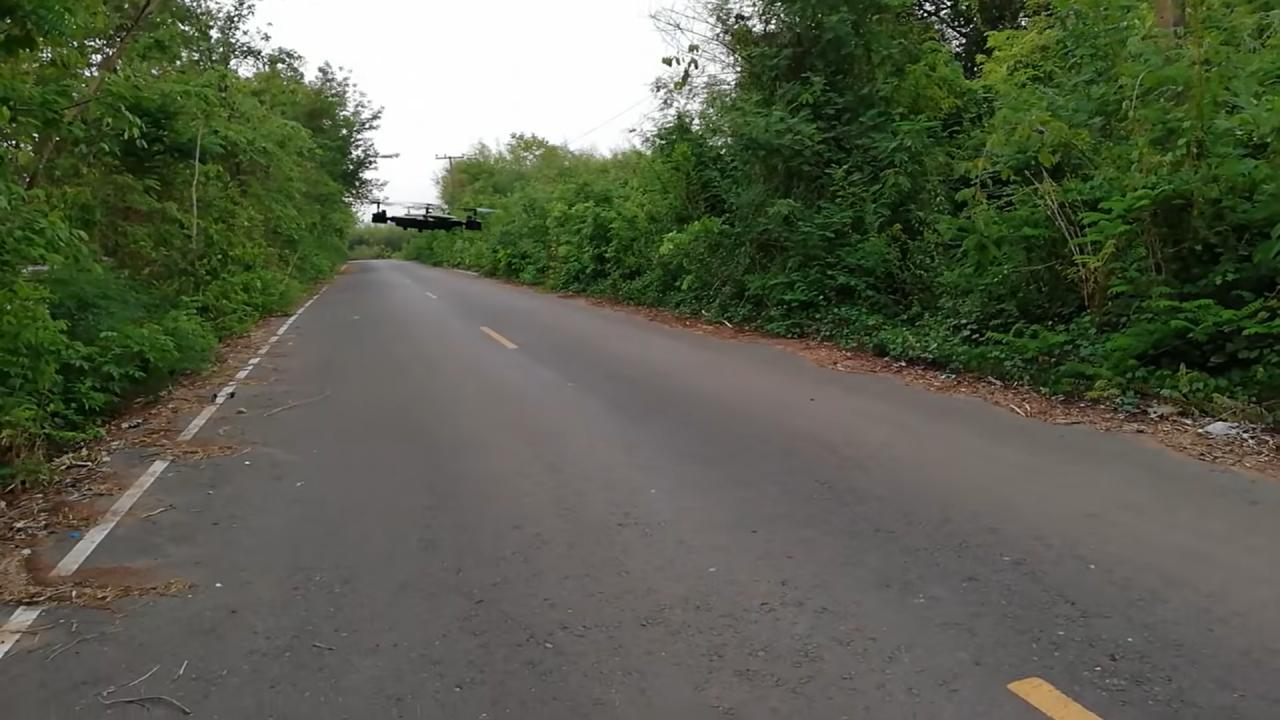Drone: (336, 185, 514, 247)
